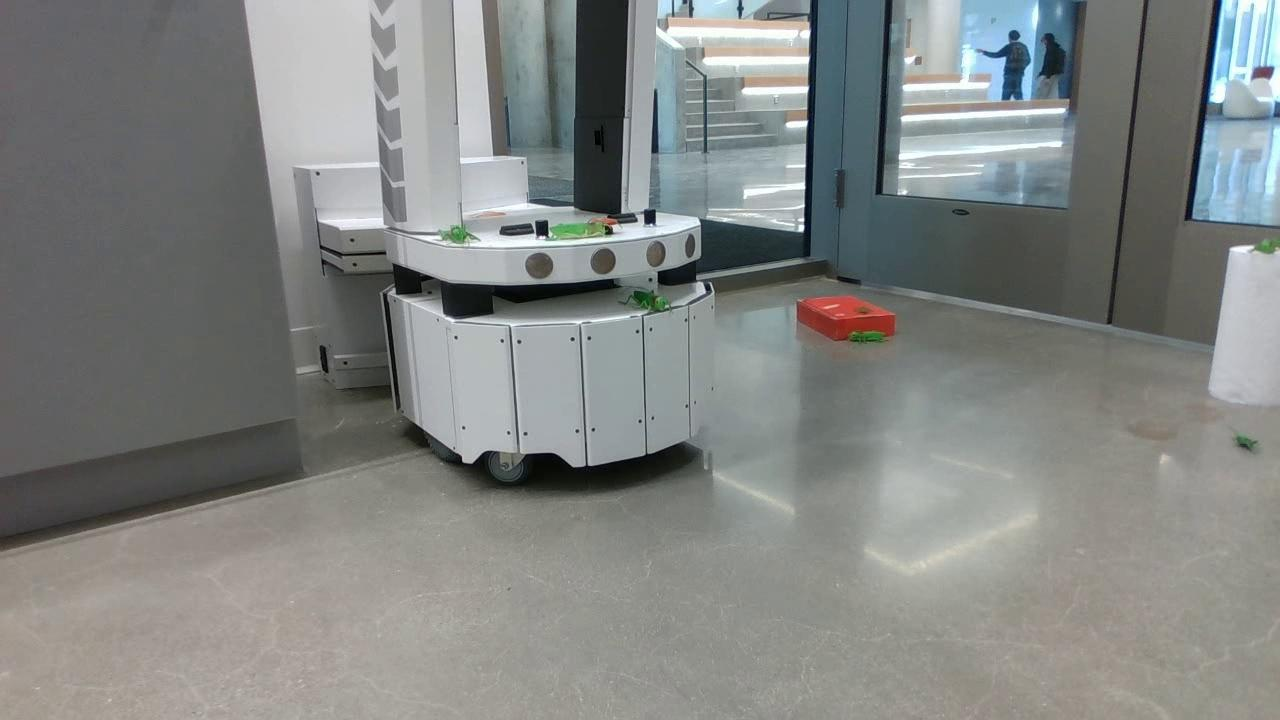grasshopper: (617, 289, 669, 313), (546, 222, 609, 241), (436, 225, 472, 246), (846, 331, 891, 345), (1249, 238, 1280, 257)
